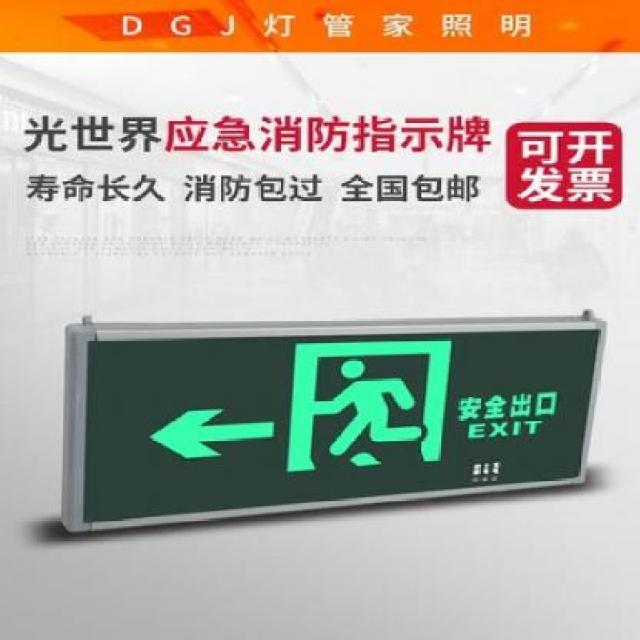exit_sign: (61, 322, 594, 522)
